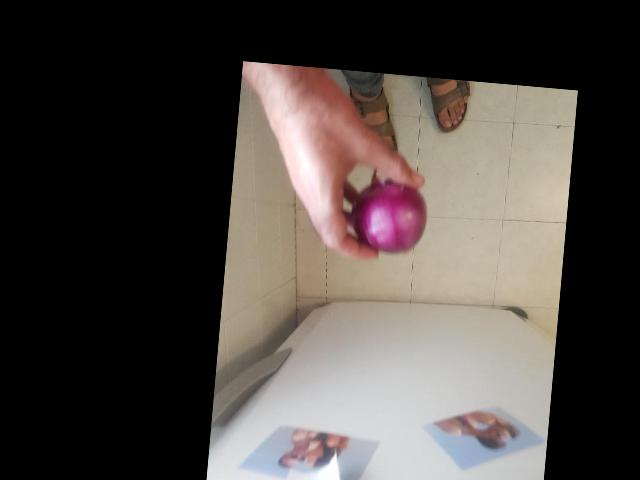onion: (337, 163, 428, 253)
